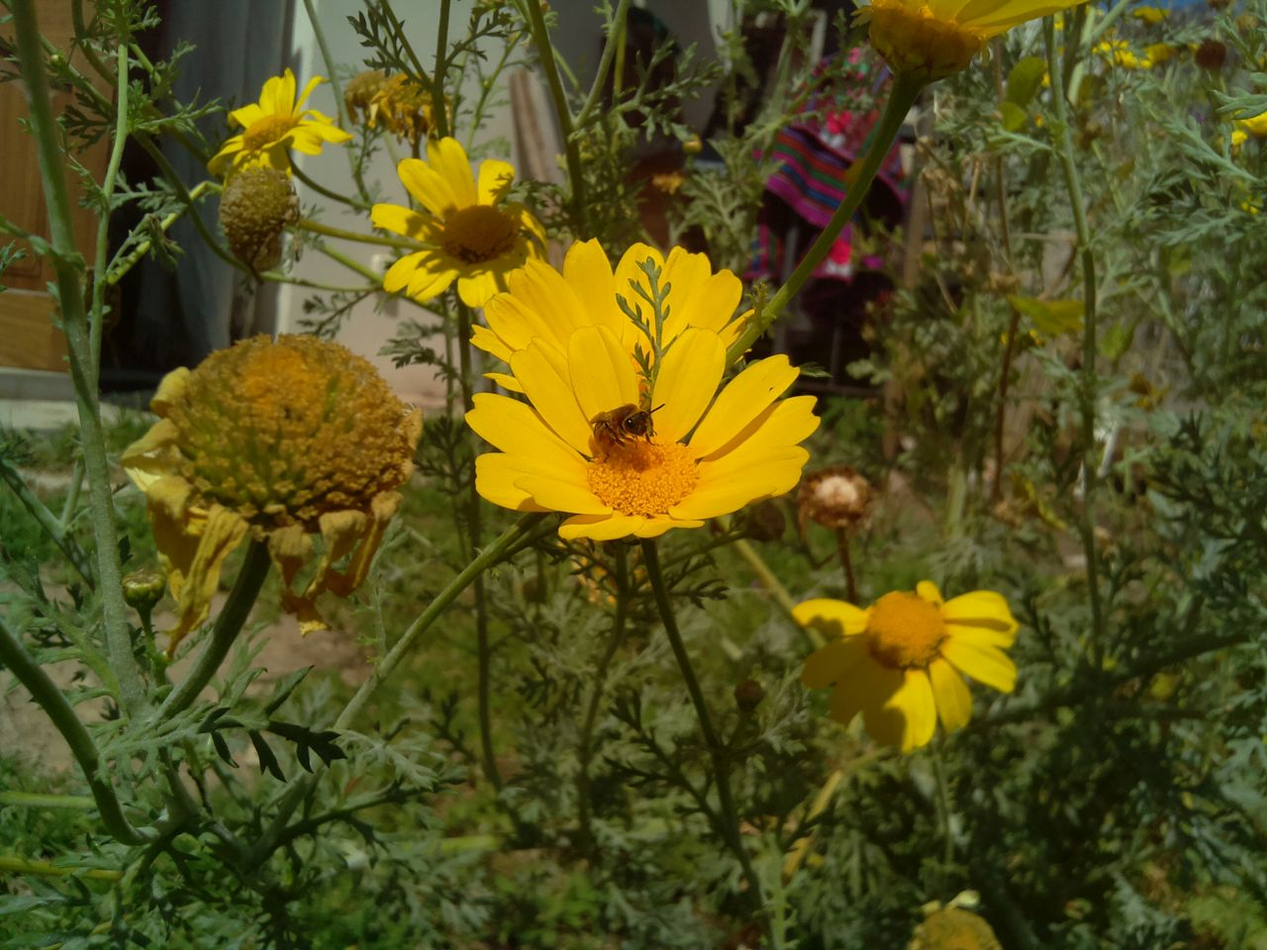Eucera: (574, 394, 662, 467)
